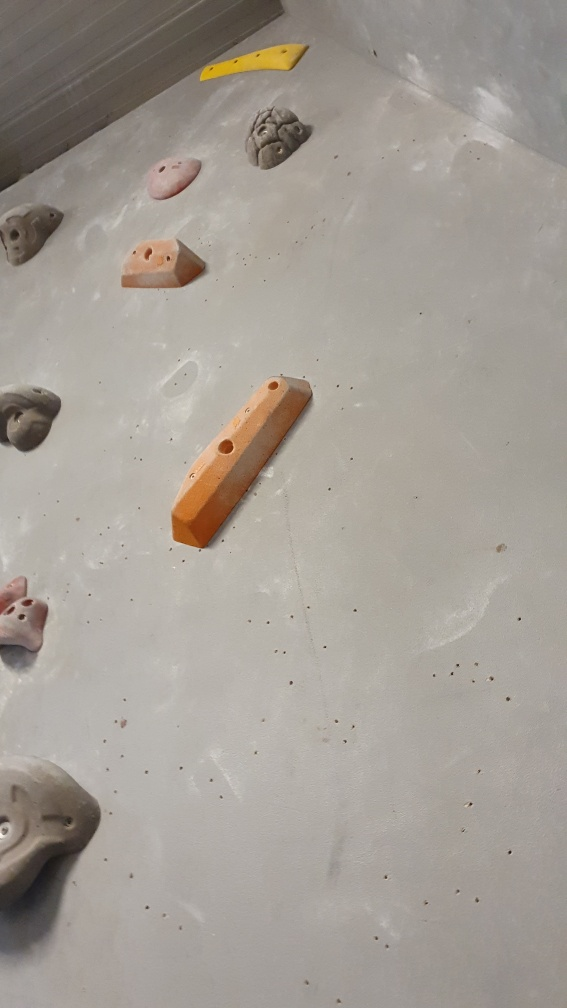Crimp: (195, 42, 315, 84)
Jug: (1, 379, 70, 453), (242, 104, 315, 173), (1, 199, 66, 268), (1, 595, 59, 658)
Pinch: (167, 372, 320, 552), (115, 237, 210, 292)
